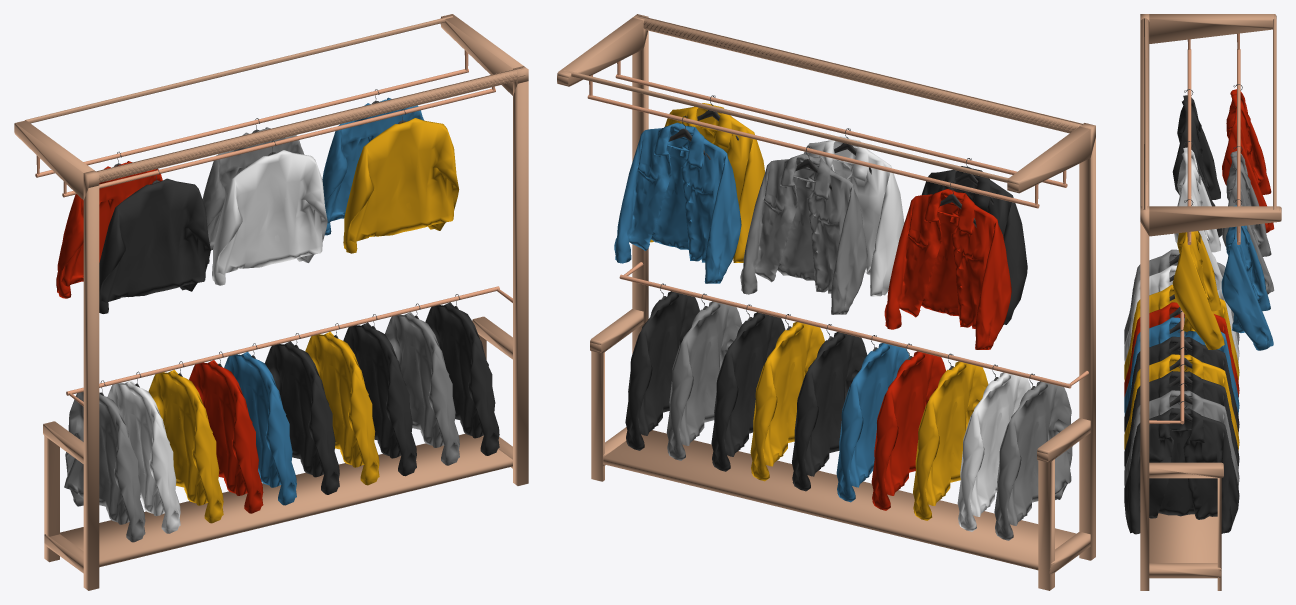
File: Casual Jackets_rack.fbx
The picture shows the model from 3 angles, left to right: view 1: azimuth 30°, elevation 25°; view 2: azimuth 150°, elevation 25°; view 3: azimuth 270°, elevation 25°; orthographic projection. The views are drawn at different scales.
Visible parts, largest first — view 1: Pattern2D_5081.004, Model.001, Model, Model.002, Model.013, Model.010, Model.006, Model.015, Model.009, Model.007, Model.012, Model.008 (+8 smaller); view 2: Pattern2D_5081.004, Model.004, Model.005, Model.003, Model.015, Model.010, Model.006, Model.013, Model.007, Model.012, Model.009, Model.008 (+8 smaller); view 3: Pattern2D_5081.004, Model.007, Model.005, Model, Model.004, Model.002, Model.008, Model.003, Model.006, Model.010, Model.001, Model.009 (+8 smaller).
Part boxes in pixels (x1=…): Pattern2D_5081.004: x1=14, y1=14, x2=528, y2=590; Model.001: x1=212, y1=150, x2=327, y2=285; Model: x1=343, y1=118, x2=459, y2=253; Model.002: x1=99, y1=178, x2=210, y2=313; Model.013: x1=148, y1=369, x2=223, y2=523; Model.010: x1=265, y1=341, x2=339, y2=494; Model.006: x1=385, y1=312, x2=459, y2=465; Model.015: x1=64, y1=392, x2=145, y2=542; Model.009: x1=305, y1=331, x2=379, y2=485; Model.007: x1=425, y1=302, x2=499, y2=455; Model.012: x1=189, y1=360, x2=263, y2=513; Model.008: x1=343, y1=322, x2=416, y2=476; Pattern2D_5081.004: x1=557, y1=14, x2=1095, y2=590; Model.004: x1=884, y1=189, x2=1011, y2=349; Model.005: x1=614, y1=122, x2=741, y2=283; Model.003: x1=740, y1=153, x2=867, y2=314; Model.015: x1=994, y1=381, x2=1072, y2=540; Model.010: x1=792, y1=332, x2=867, y2=491; Model.006: x1=666, y1=301, x2=742, y2=460; Model.013: x1=913, y1=361, x2=988, y2=520; Model.007: x1=625, y1=291, x2=699, y2=450; Model.012: x1=871, y1=351, x2=945, y2=510; Model.009: x1=750, y1=322, x2=824, y2=481; Model.008: x1=711, y1=312, x2=785, y2=471; Pattern2D_5081.004: x1=1140, y1=14, x2=1281, y2=590; Model.007: x1=1124, y1=408, x2=1239, y2=534; Model.005: x1=1221, y1=205, x2=1273, y2=350; Model: x1=1172, y1=231, x2=1224, y2=349; Model.004: x1=1222, y1=89, x2=1274, y2=232; Model.002: x1=1172, y1=95, x2=1222, y2=237; Model.008: x1=1124, y1=371, x2=1239, y2=468; Model.003: x1=1222, y1=151, x2=1274, y2=294; Model.006: x1=1124, y1=390, x2=1239, y2=486; Model.010: x1=1124, y1=336, x2=1239, y2=433; Model.001: x1=1174, y1=147, x2=1222, y2=290; Model.009: x1=1124, y1=354, x2=1239, y2=450.
Size of the model in its own units: 429 by 386 by 145.
